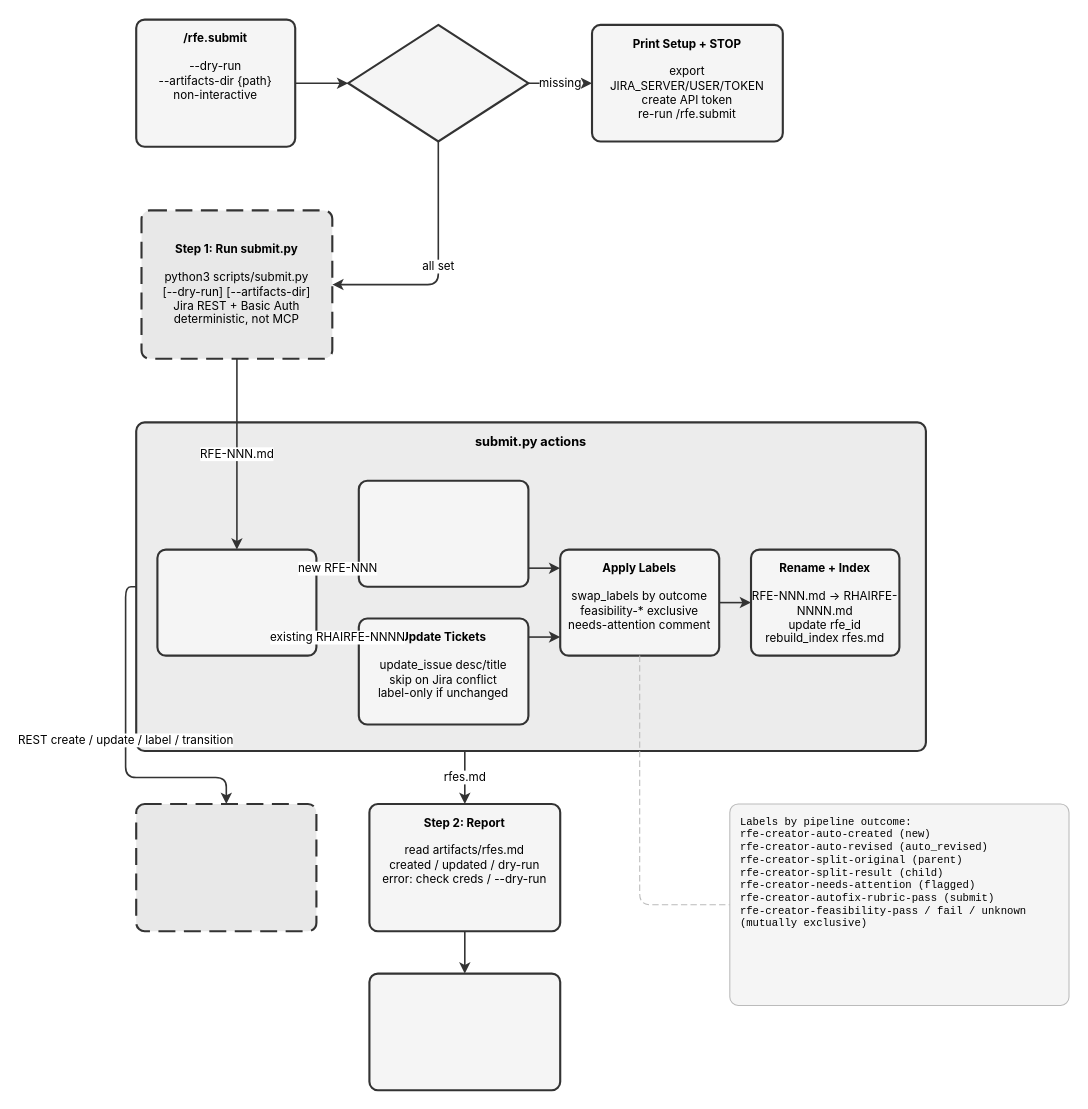
Some shapes in this 1088 by 1109 pixel diagram are drawn without their labels. The shapes that lost their labels are listed below. From the top down, each one's centre as x and y in pixels, then its label:
At pixel 438 82: "Step 0: Check Credentials JIRA_SERVER JIRA_USER JIRA_TOKEN set?".
At pixel 443 533: "Create Tickets create_issue RHAIRFE Feature Request + priority status: New".
At pixel 236 602: "Scan + Plan scan_task_files() classify per RFE reject / conflict = skip".
At pixel 226 867: "Jira — RHAIRFE project Feature Request issues REST + Basic Auth".
At pixel 464 1031: "Output Jira RHAIRFE tickets artifacts/rfes.md labels applied".
